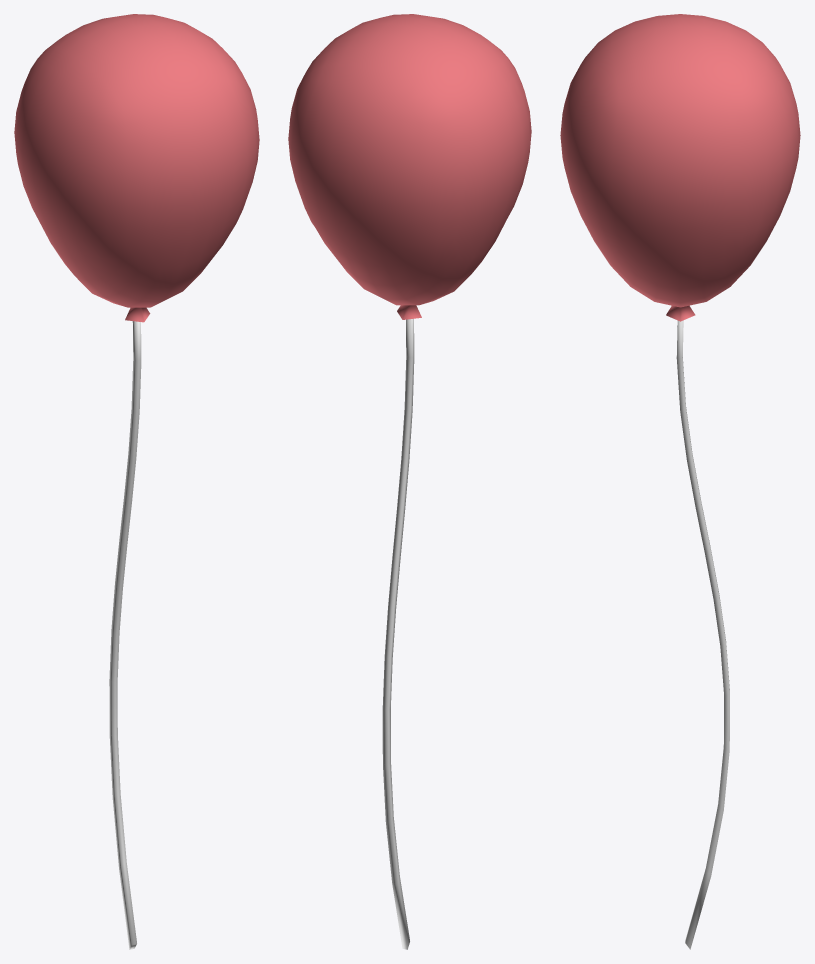
File: balloon.glb
The picture shows the model from 3 angles, left to right: view 1: azimuth 30°, elevation 25°; view 2: azimuth 150°, elevation 25°; view 3: azimuth 270°, elevation 25°; orthographic projection.
Parts seen in each view (by area): view 1: Cube; view 2: Cube; view 3: Cube.
Part boxes in pixels (left/top/right/bottom): Cube: left=14, top=14, right=259, bottom=949; Cube: left=288, top=14, right=531, bottom=949; Cube: left=560, top=14, right=800, bottom=949.
Bounding box in the file's own units: 1.6 × 6.79 × 1.6.
